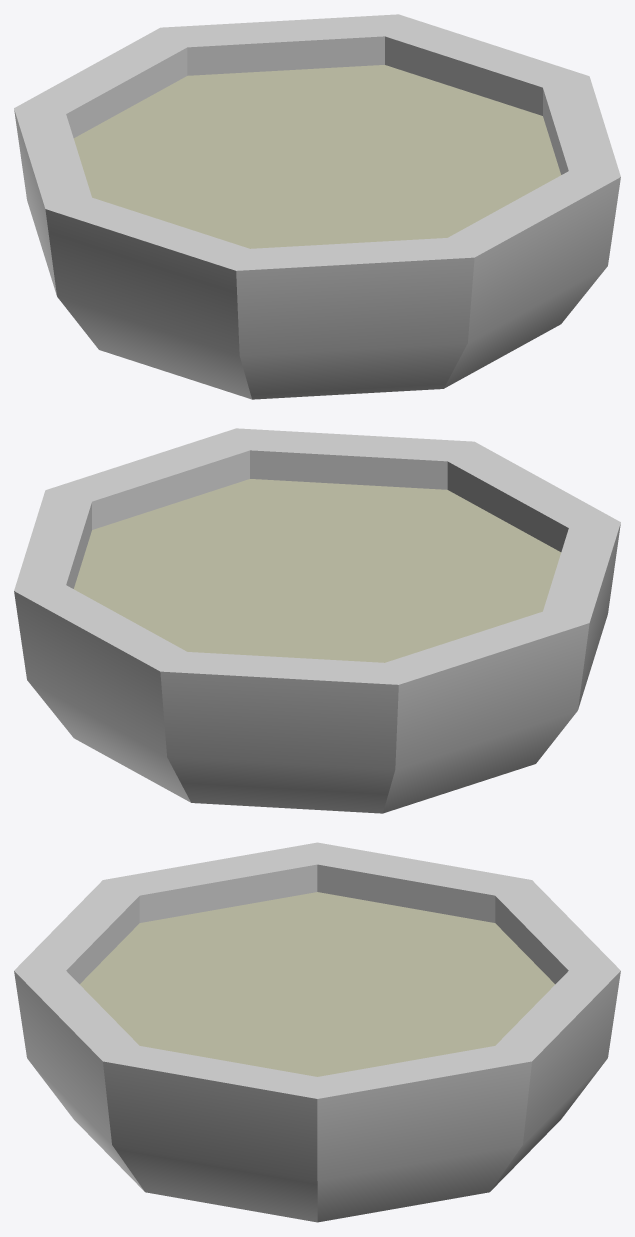
Rendered from SoupBowl.fbx.
3 views of the same model, one above another, from view 1: azimuth 30°, elevation 25°; view 2: azimuth 150°, elevation 25°; view 3: azimuth 270°, elevation 25° (orthographic). The views are drawn at different scales.
Parts seen in each view (by area): view 1: Soup; view 2: Soup; view 3: Soup.
Boxes of the visible parts, box(x1,y1,x2,y2) form: Soup: box(14, 14, 620, 399); Soup: box(14, 428, 620, 813); Soup: box(14, 842, 620, 1222).
Bounding box in the file's own units: 24.83 × 6.72 × 24.83.
